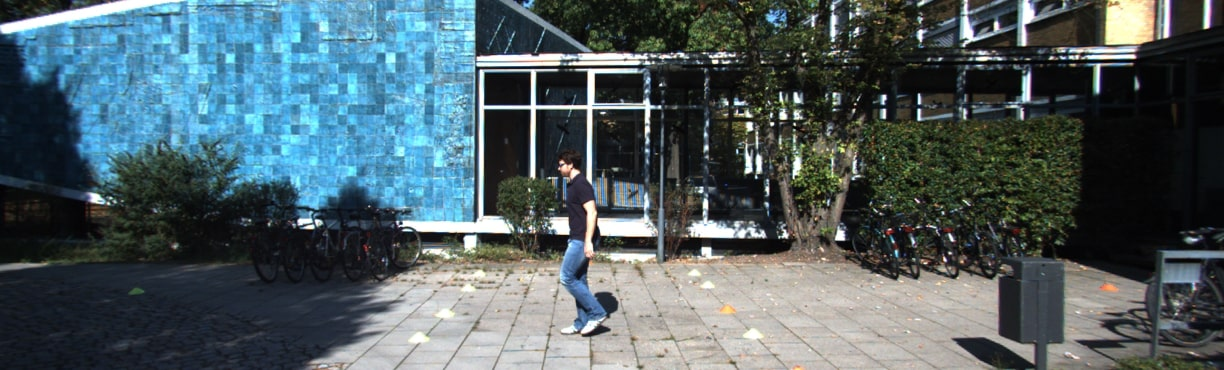person: (546, 141, 620, 339)
